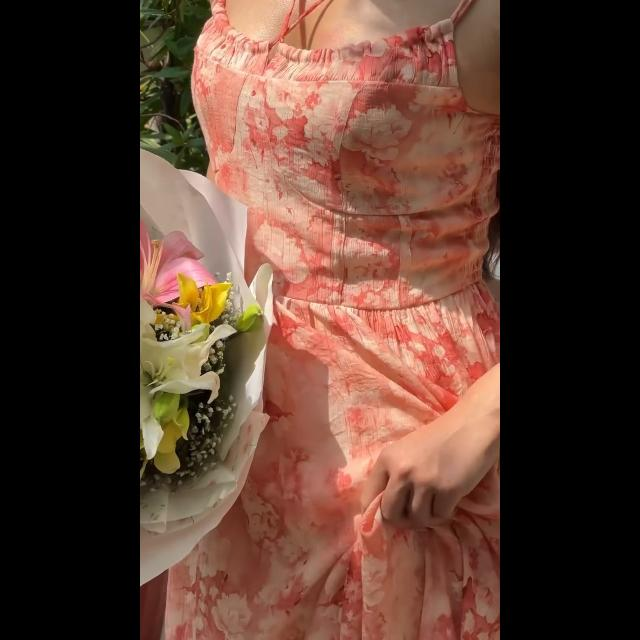dress: (188, 8, 500, 640)
